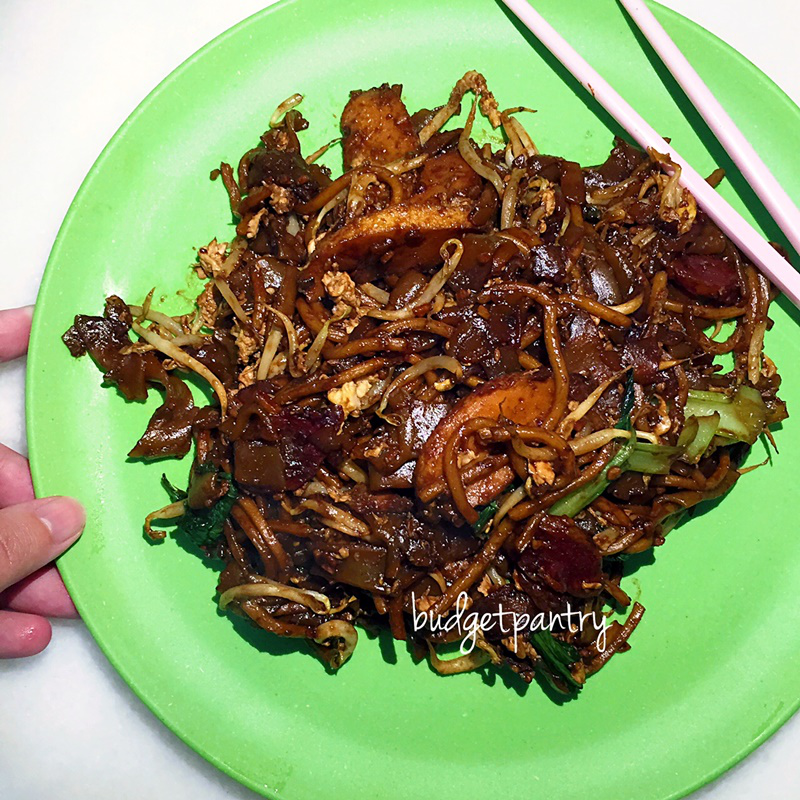Char Kway Teow: (187, 95, 756, 686)
